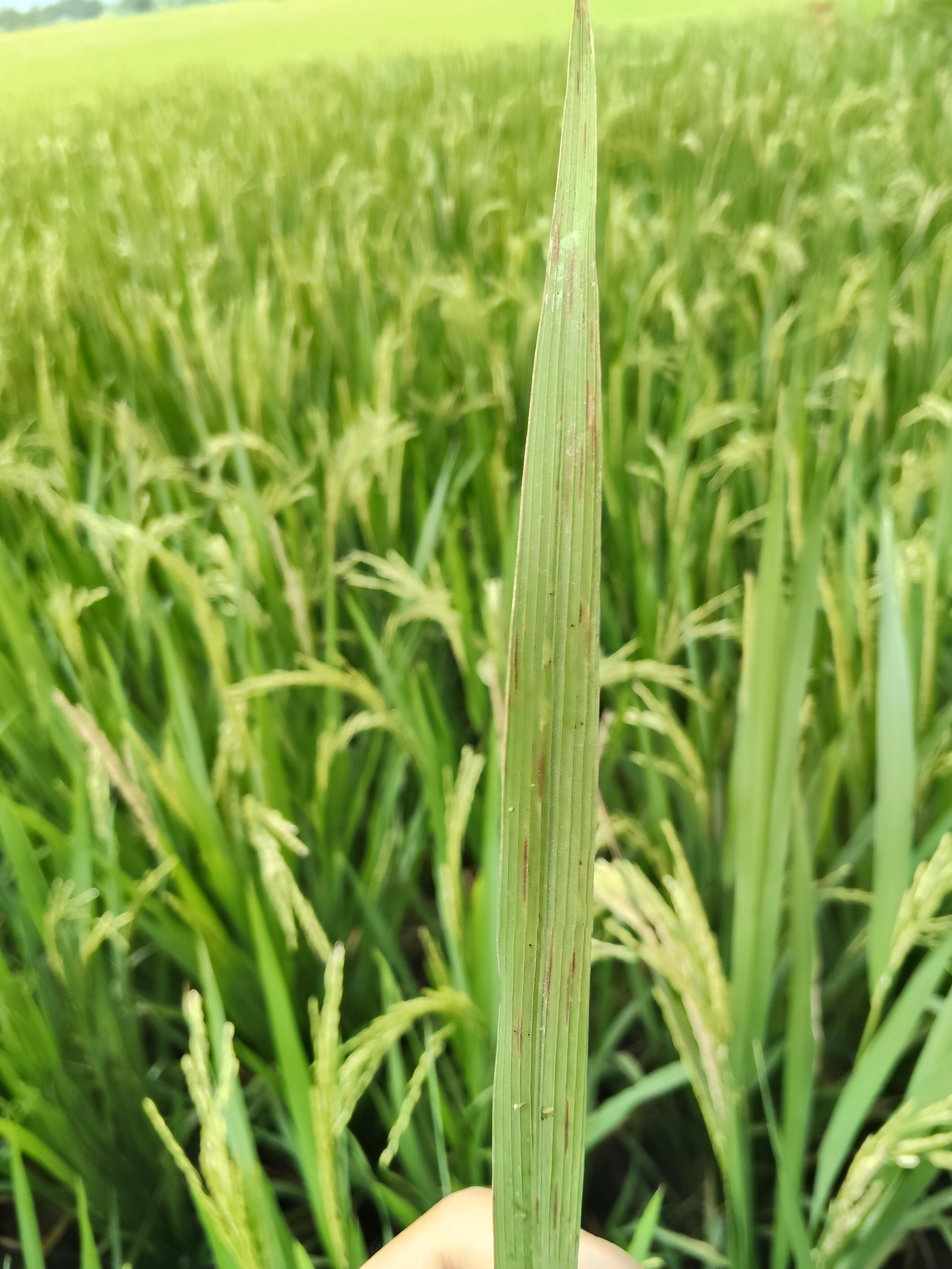NBS: (543, 936, 553, 999), (568, 238, 576, 313), (536, 744, 544, 799), (522, 838, 528, 902), (578, 444, 584, 500), (514, 632, 519, 692), (553, 1183, 559, 1230), (553, 228, 560, 265), (564, 1100, 568, 1155), (589, 321, 595, 355), (517, 1014, 522, 1054), (586, 381, 590, 431), (591, 424, 596, 459), (571, 950, 577, 979), (535, 1197, 539, 1225), (584, 123, 587, 159), (578, 600, 582, 626), (577, 71, 579, 95), (583, 311, 585, 324)
